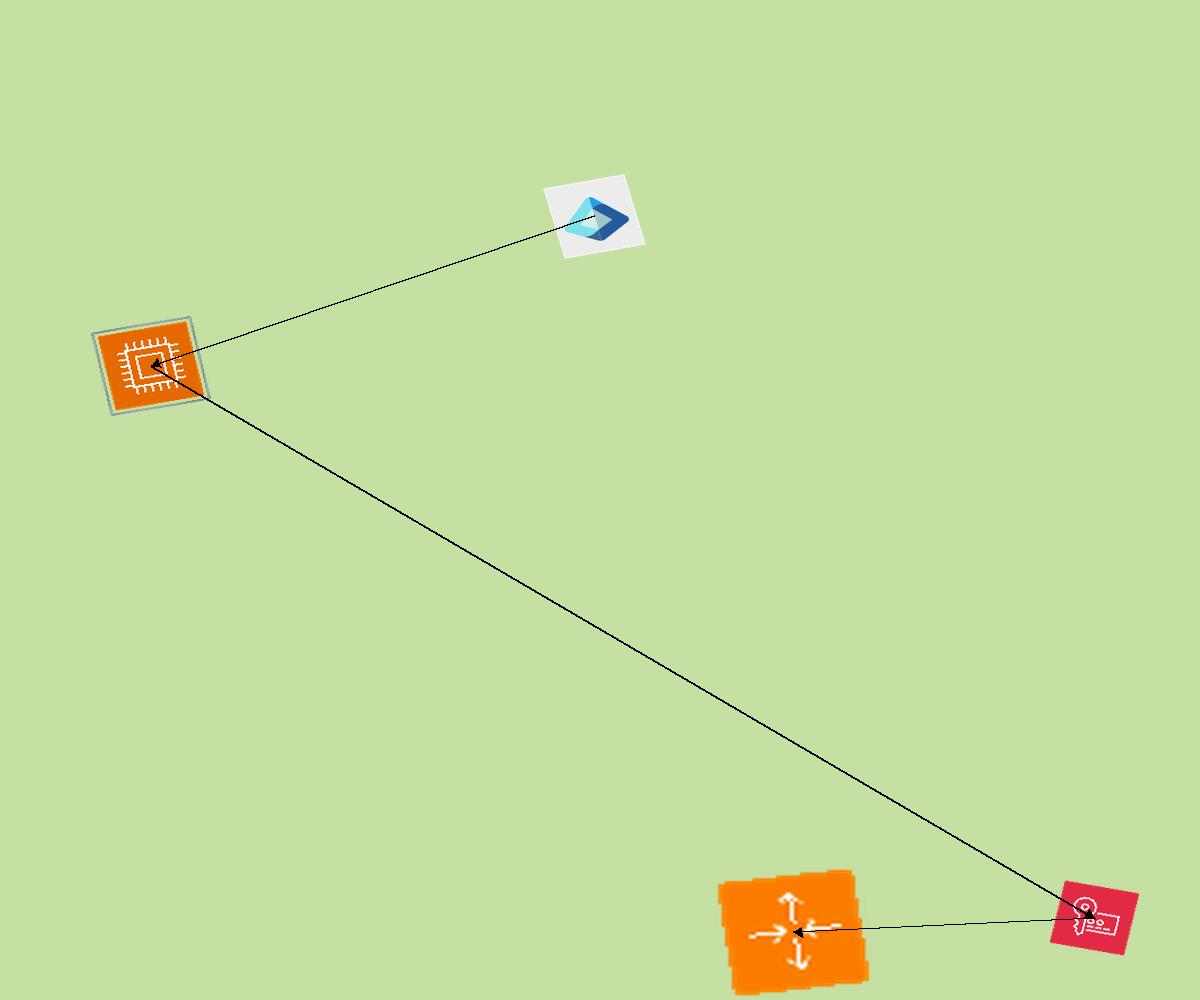AWS-Category_Compute: (90, 315, 212, 417)
AWS-Key-Management-Service: (1049, 880, 1140, 956)
AWS-Scaling-group: (715, 867, 872, 998)
Azure_microsoft_entra: (543, 174, 646, 259)
